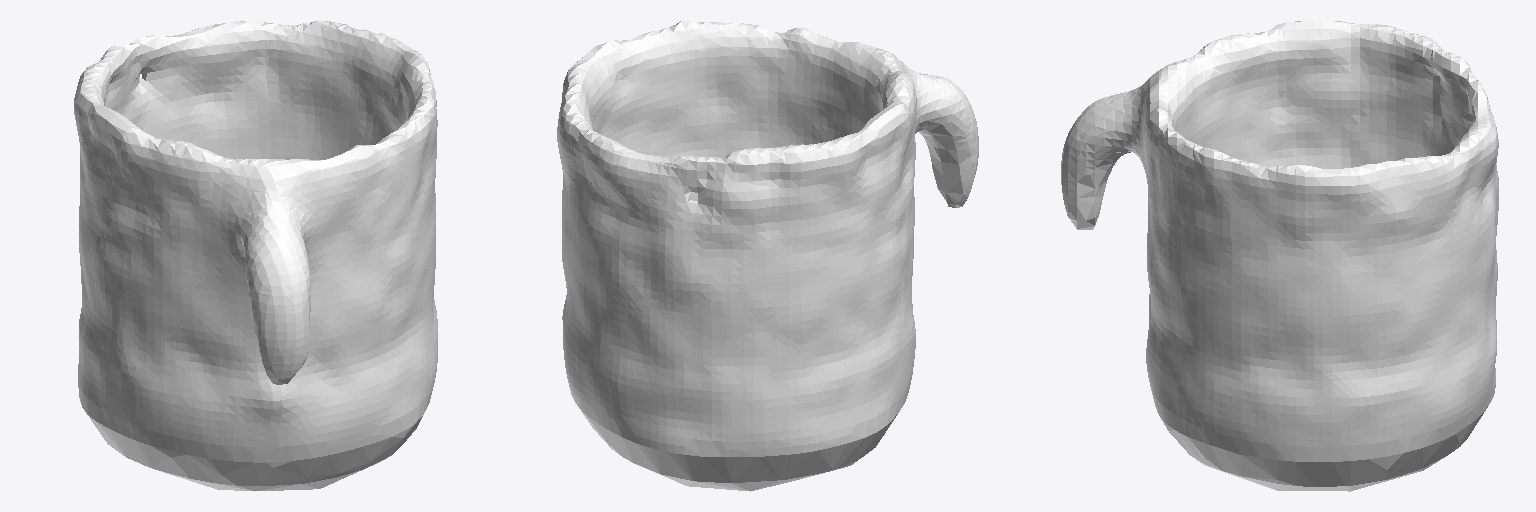
robot.urdf — urdf_robot:
<?xml version="1.0" ?>
<robot name="urdf_robot">
  <link name="base_link">
    <contact>
      <rolling_friction value="0.001"/>
      <spinning_friction value="0.001"/>
    </contact>
    <inertial>
      <origin rpy="0 0 0" xyz="0 0 0"/>
       <mass value=".1"/>
       <inertia ixx="1" ixy="0" ixz="0" iyy="1" iyz="0" izz="0.3"/>
    </inertial>
    <visual>
      <origin rpy="0 0 0" xyz="0 0 0"/>
      <geometry>
        <mesh filename="mug.obj" />
        <!-- <mesh filename="textured_sphere_smooth.obj" sscale = "1.2 1.2 1.2"/>       -->
      </geometry>
      <material name="white">
        <color rgba="1 1 1 1"/>
      </material>
    </visual>
    <collision>
      <origin rpy="0 0 0" xyz="0 0 0"/>
      <geometry>
        <mesh filename="mug.obj" scale = "0.9 0.9 0.9"/>
      </geometry>
    </collision>
  </link>
</robot>

--- What the picture shows (computed from the rendered views, not written in the file) ---
3 views of the same robot in one strip: view 1: azimuth 30°, elevation 25°; view 2: azimuth 150°, elevation 25°; view 3: azimuth 270°, elevation 25° (orthographic).
Robot: urdf_robot — 1 links, 0 joints (none); root link base_link; default pose: every joint at zero.
Visible links, largest first — view 1: base_link; view 2: base_link; view 3: base_link.
Link boxes in pixels (box(x1,y1,x2,y2)): base_link: box(74, 20, 437, 491); base_link: box(557, 20, 978, 491); base_link: box(1061, 21, 1498, 491).
Bounding box of the posed robot: 0.0878 × 0.1072 × 0.1049 m (x, y, z).
1 mesh visuals loaded from 1 distinct referenced files (1 OBJ).